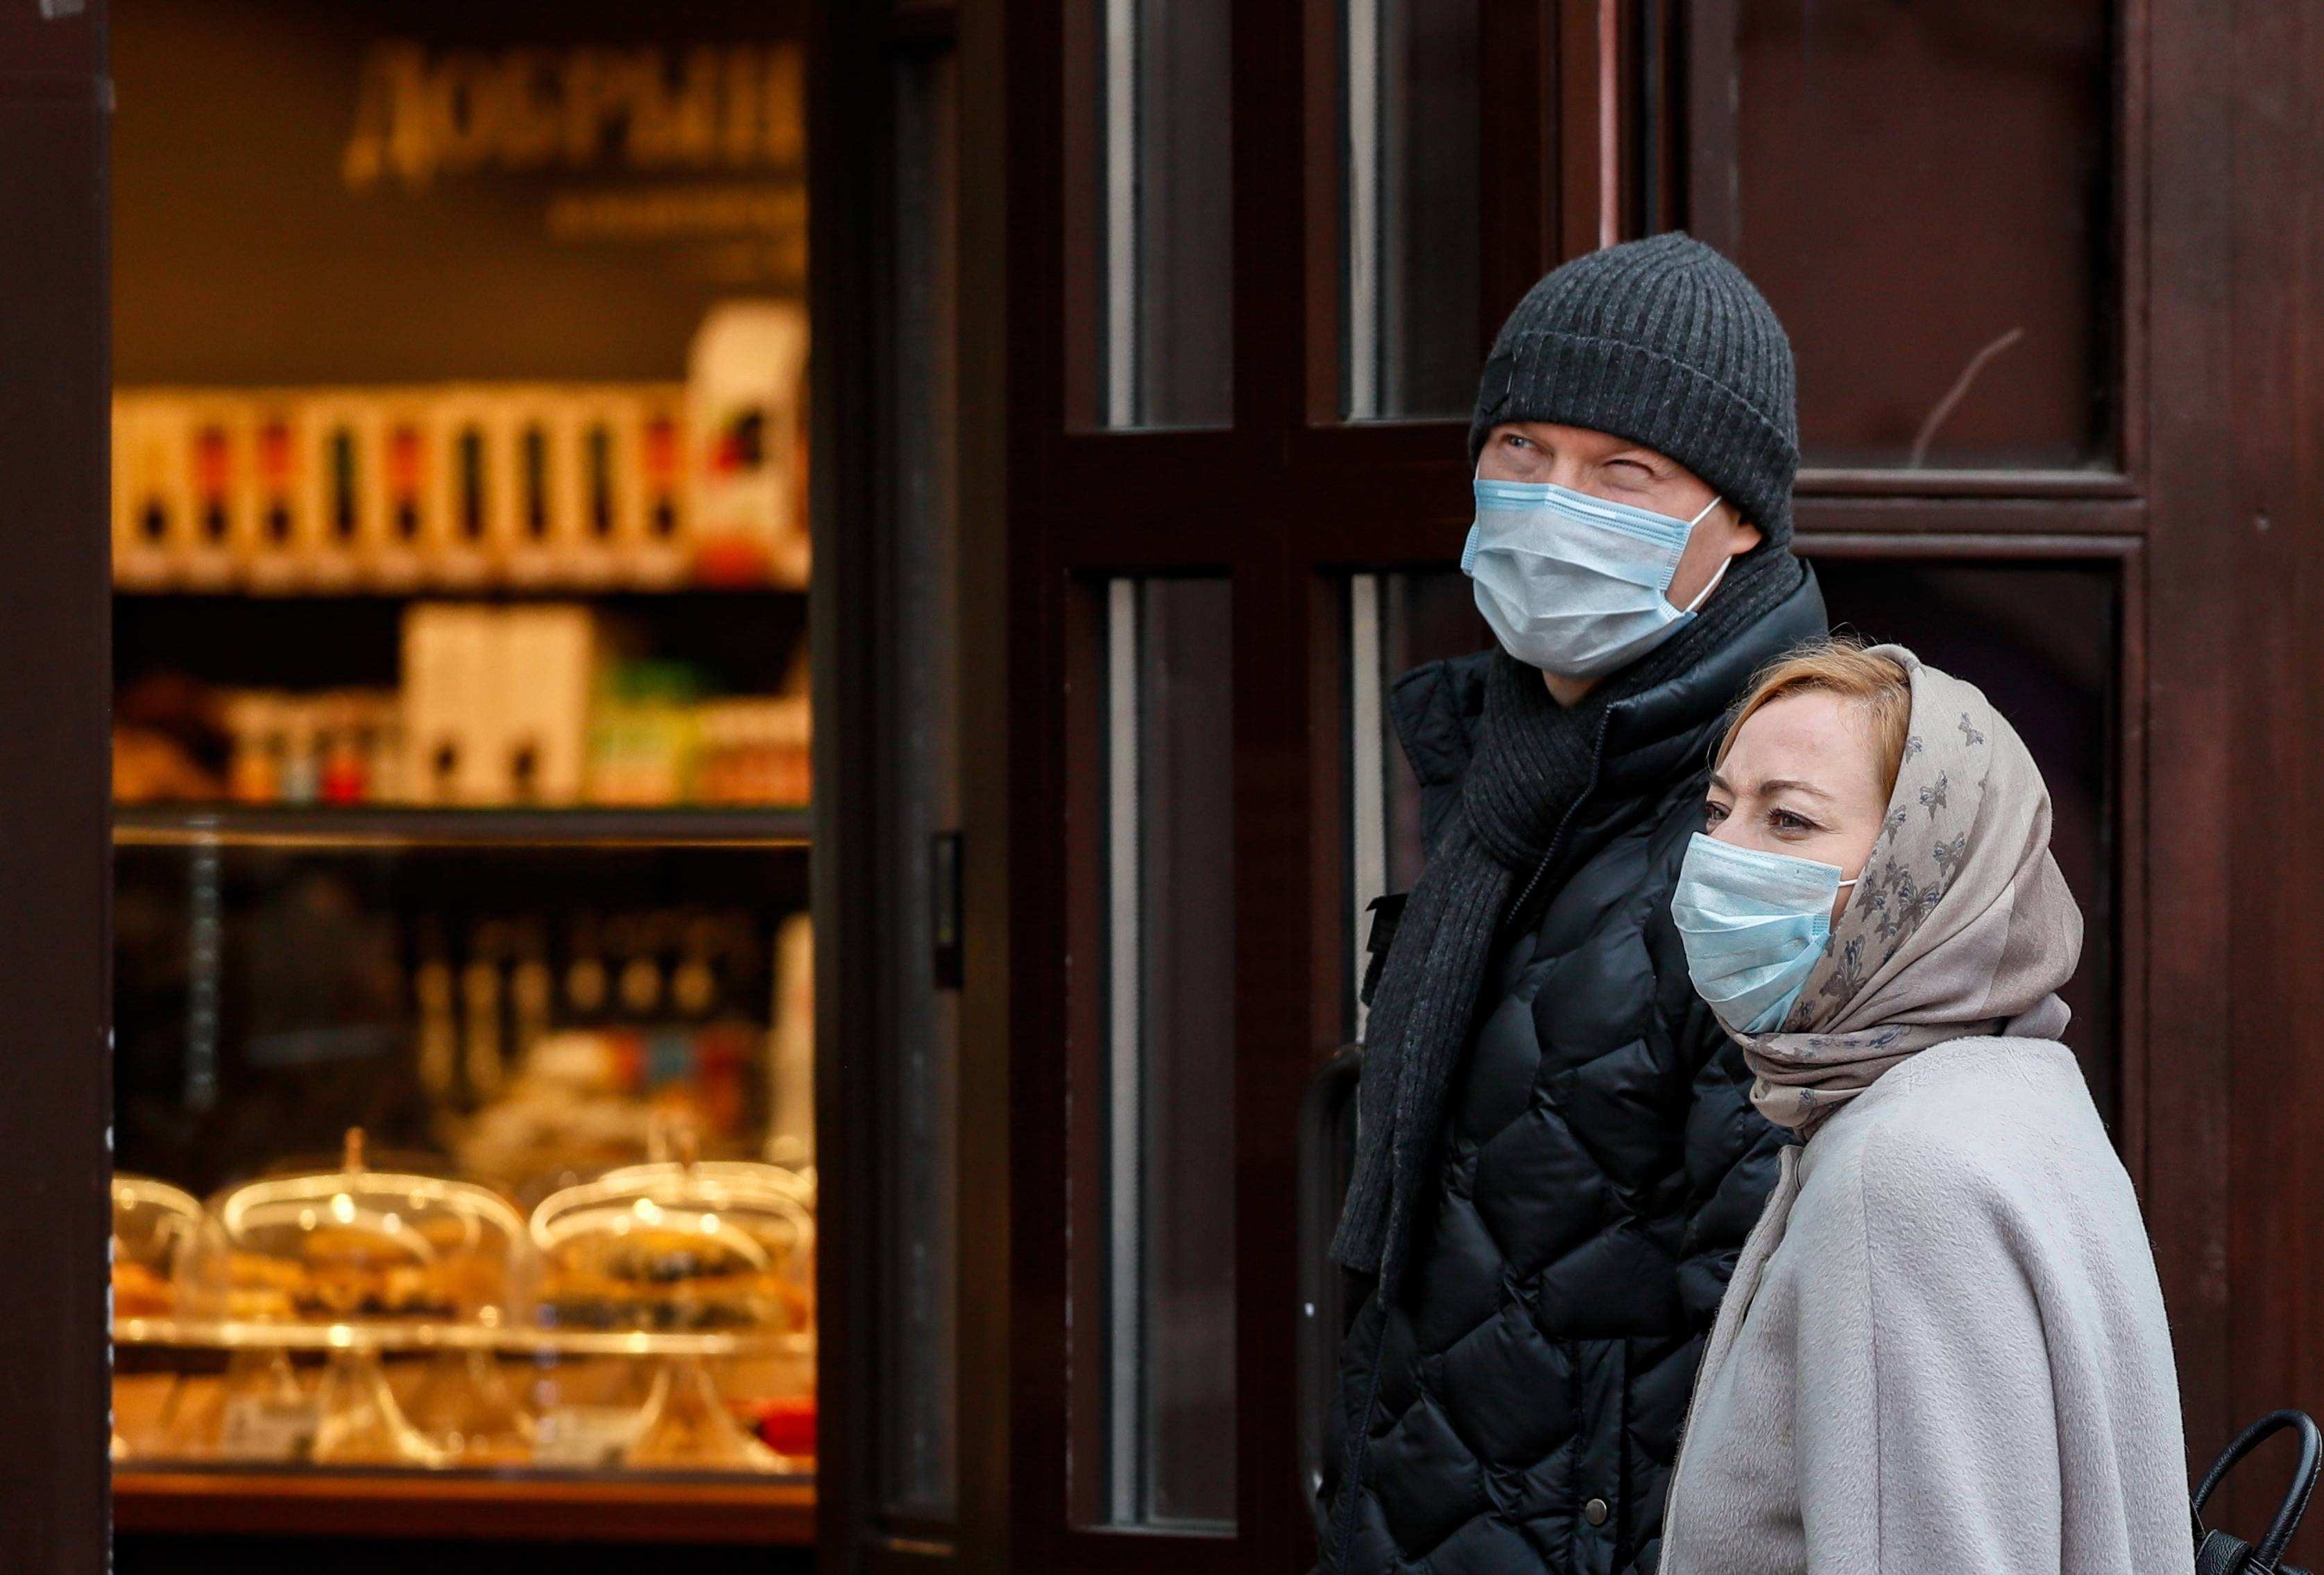mask: (1483, 401, 1713, 666), (1713, 712, 1876, 1051)
